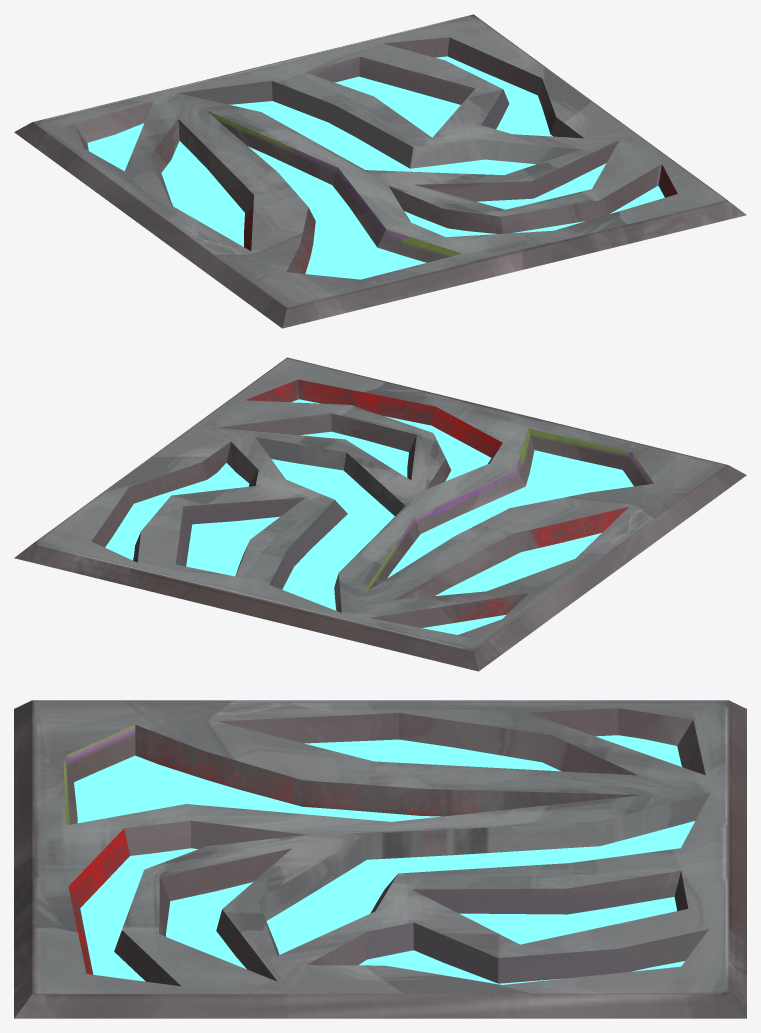
File: tile_molten_zoo.fbx
3 views of the same model, one above another, from view 1: azimuth 30°, elevation 25°; view 2: azimuth 150°, elevation 25°; view 3: azimuth 270°, elevation 25° (orthographic). The views are drawn at different scales.
Parts seen in each view (by area): view 1: zoo_tile1, molten_zootonium1; view 2: zoo_tile1, molten_zootonium1; view 3: zoo_tile1, molten_zootonium1.
Part boxes in pixels (x1=…): zoo_tile1: x1=14, y1=14, x2=746, y2=328; molten_zootonium1: x1=87, y1=56, x2=664, y2=279; zoo_tile1: x1=14, y1=357, x2=746, y2=671; molten_zootonium1: x1=105, y1=399, x2=633, y2=634; zoo_tile1: x1=14, y1=700, x2=746, y2=1018; molten_zootonium1: x1=74, y1=735, x2=694, y2=984.
Size of the model in its own units: 0.02 by 0.001 by 0.02.
